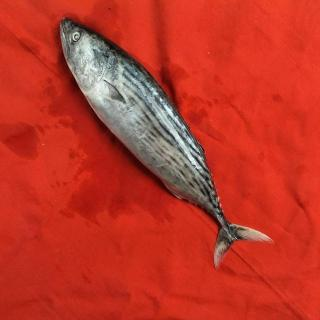Ikan: (52, 15, 273, 267)
